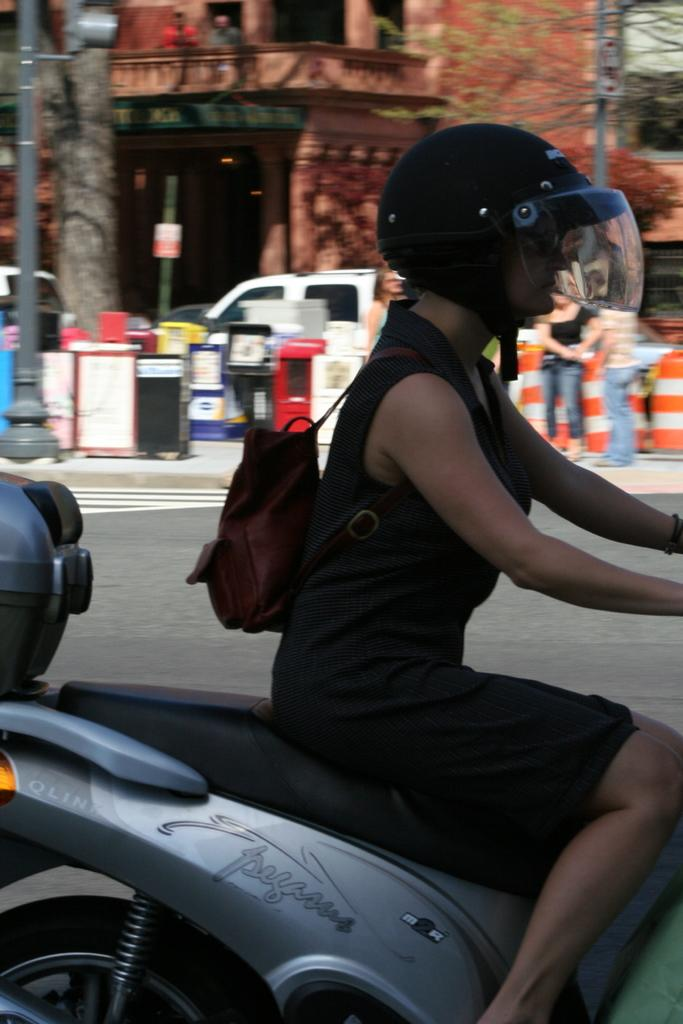helmet: (374, 122, 644, 323)
